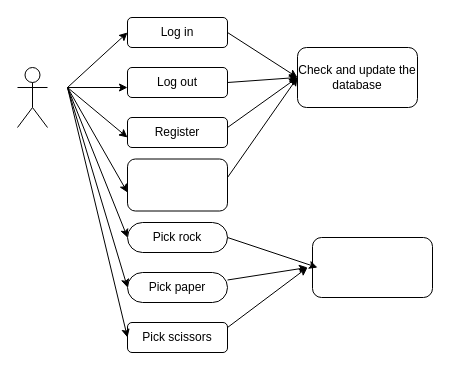
Image size: 450x370. Some labels were removed from this diagram. The centre of each missing label's shape, as x and y in pixels:
Actor: point 32,97
Check scoreboard: point 177,184
Update the score: point 372,267
